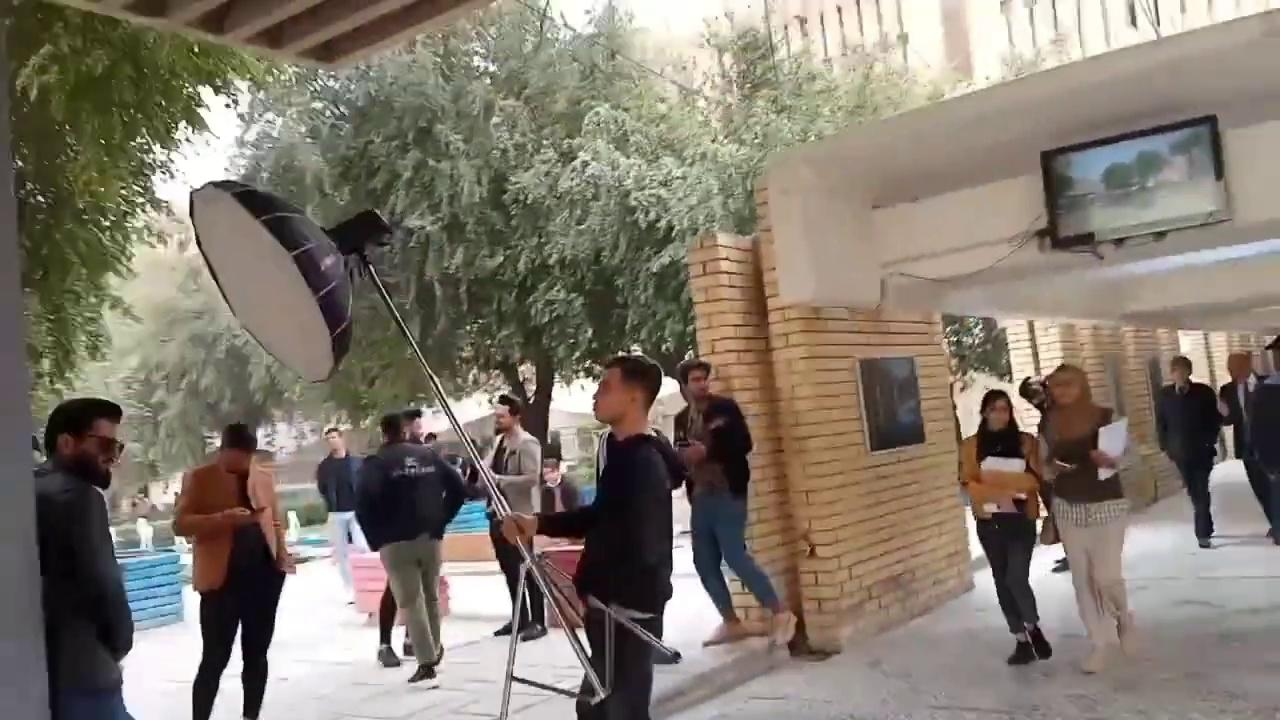fountain: (284, 509, 301, 546)
person: (499, 355, 686, 719), (172, 422, 295, 719), (672, 358, 793, 647), (32, 397, 136, 719), (1035, 363, 1137, 674), (353, 411, 465, 683), (958, 388, 1052, 665), (463, 393, 544, 639), (1154, 354, 1222, 548), (1218, 351, 1276, 540), (1018, 375, 1070, 573), (315, 426, 370, 605), (1244, 334, 1279, 545)
tree: (222, 0, 962, 463), (5, 0, 299, 433), (110, 245, 305, 495), (940, 313, 1013, 393)
